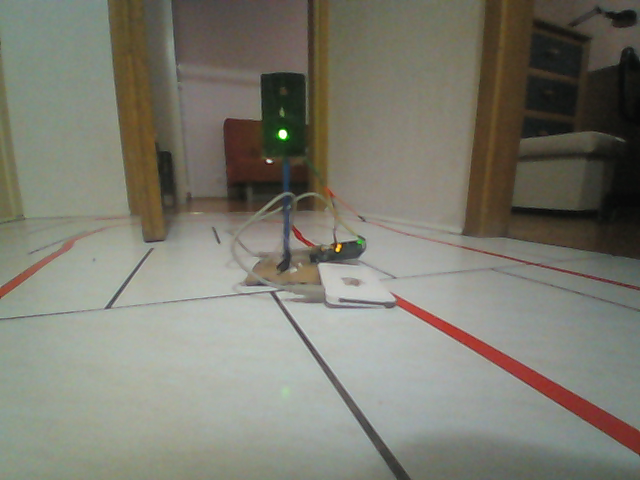green_sign: (256, 69, 312, 159)
